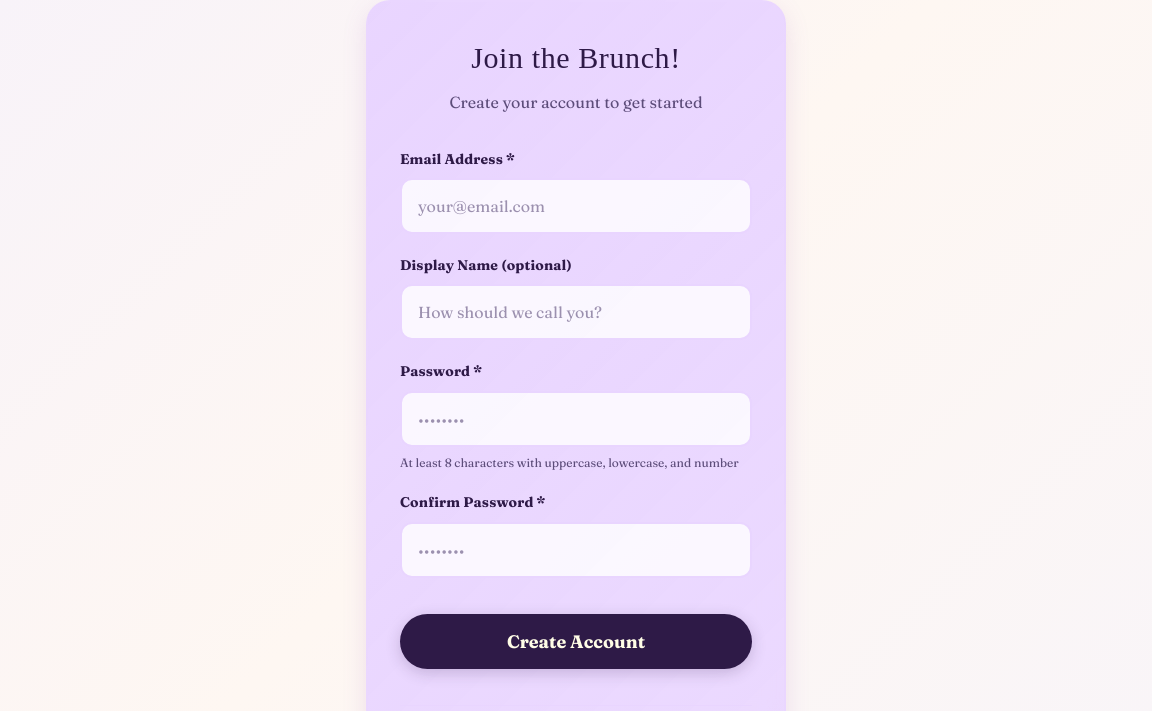
Test: SignUpForm › Failed Sign Up › should show error for email already registered
Type "existing@example.com" into the field labelled "Email Address *" at {"x": 576, "y": 206}, box [400,178,752,234]
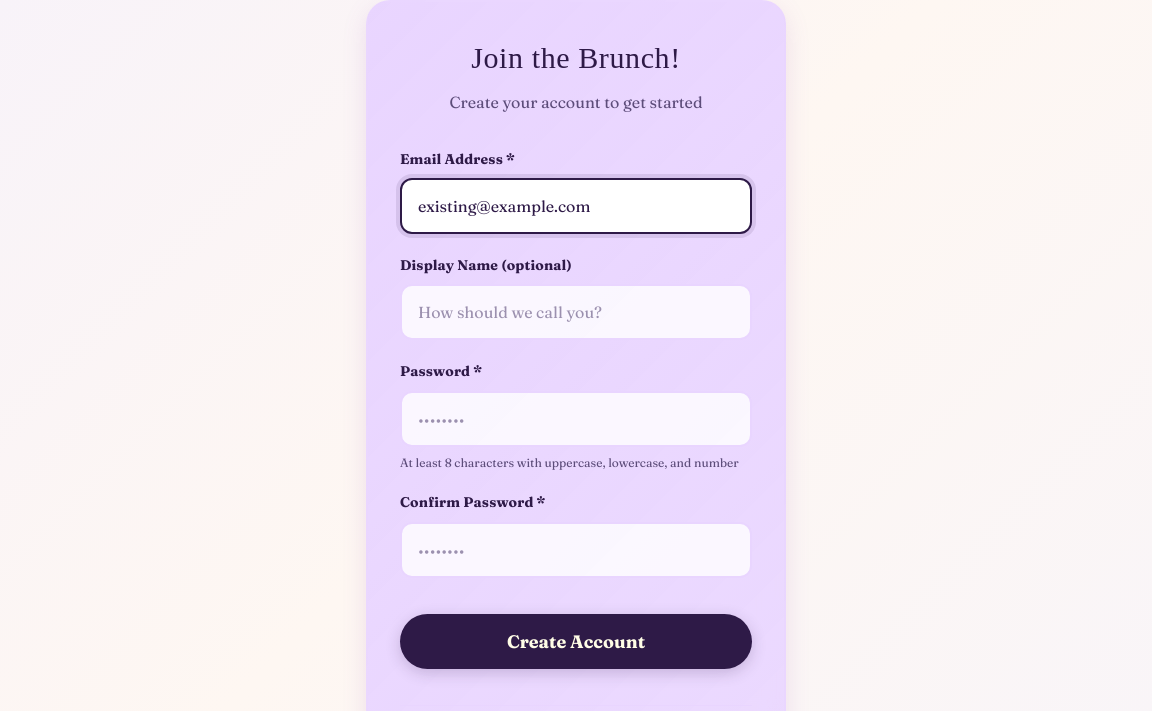
Type "Password123" into the password field labelled "Password *" at {"x": 576, "y": 419}, box [400,391,752,447]
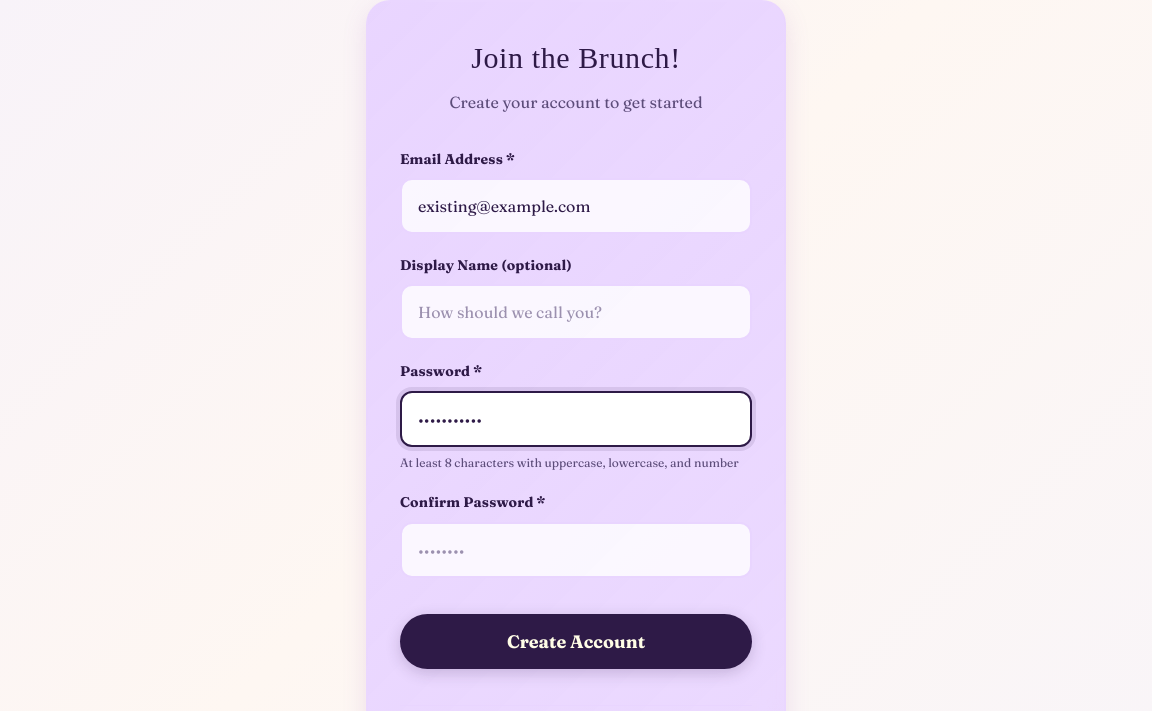
Type "Password123" into the password field labelled "Confirm Password *" at {"x": 576, "y": 550}, box [400,522,752,578]
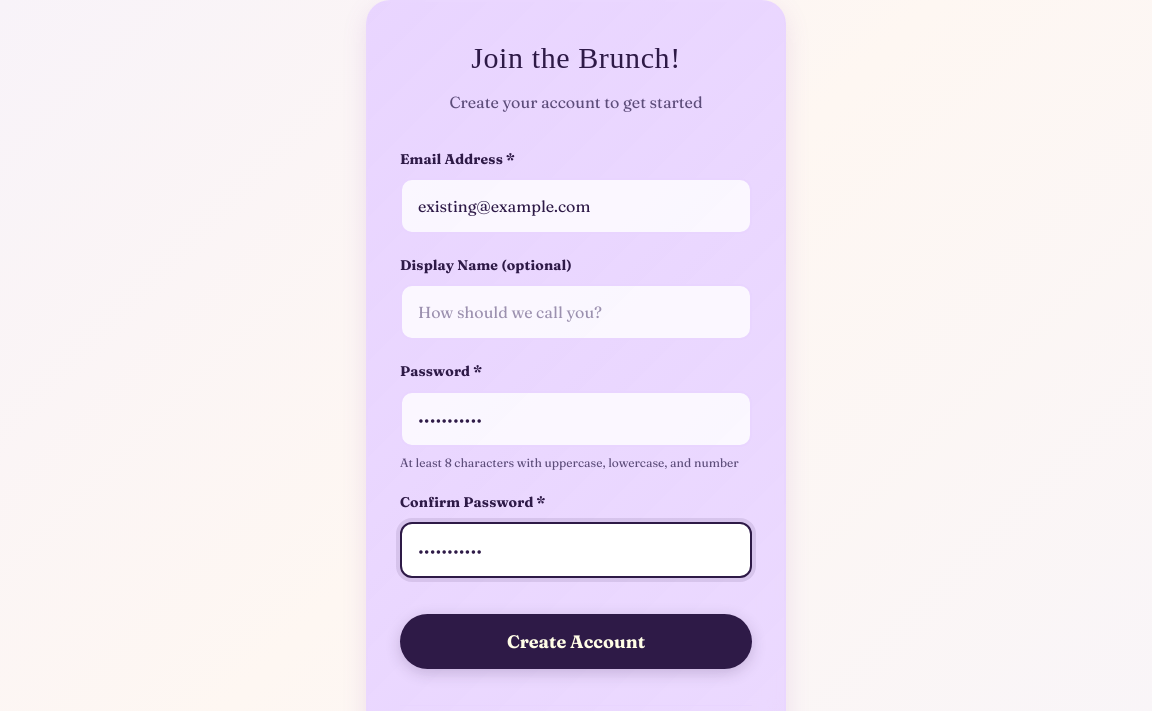
Click the button "Create Account" at {"x": 576, "y": 641}, box [400,614,752,669]
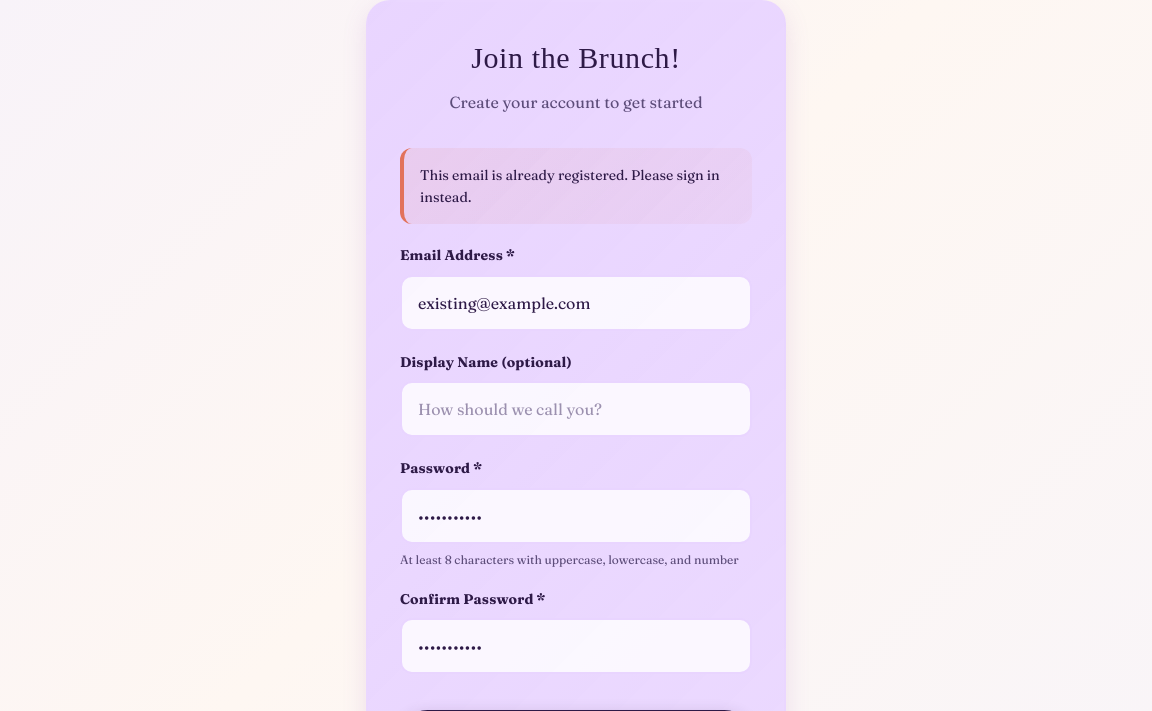
Check: the text "This email is already registered. Please sign in instead." is shown, box [400,148,752,224]
